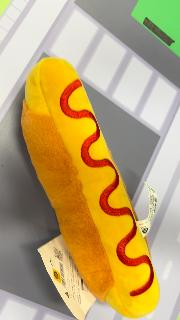hotdog: (20, 57, 160, 319)
